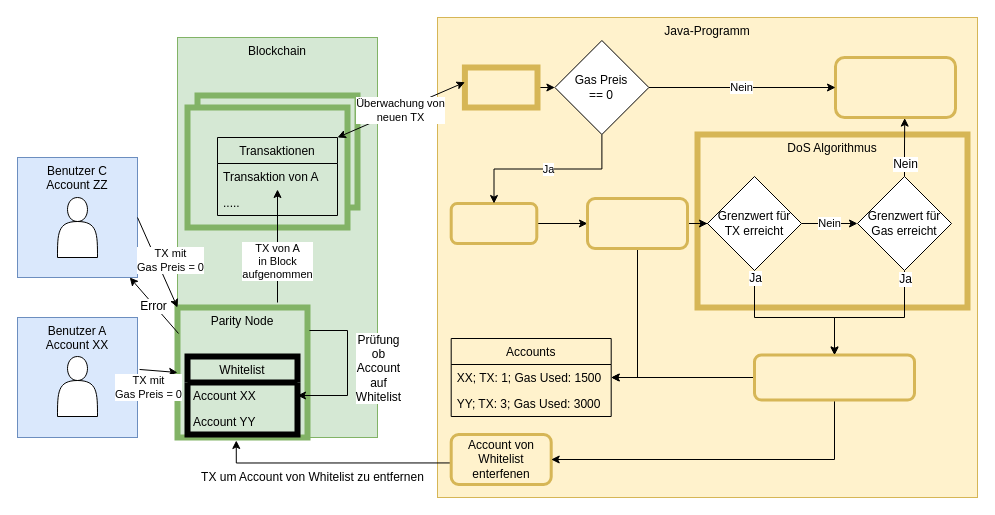
Image size: 995x515. Some labels were removed from this diagram. The centre of each missing label's shape, as x and y in pixels:
Account ermitteln: (x=493, y=223)
Keine weiteren Aktionen: (x=895, y=87)
Mined Block: (x=267, y=167)
Sperrung vermerken: (x=834, y=377)
Subscription: (x=500, y=87)
Zähler aktualisieren: (x=637, y=223)
